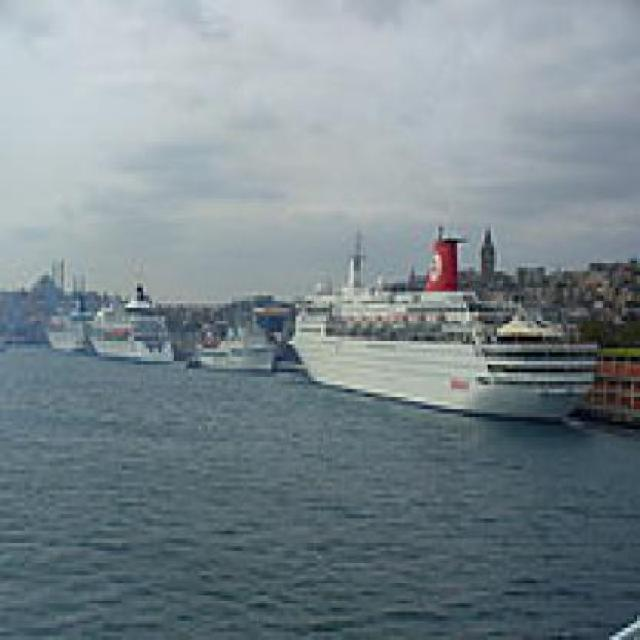cruise: (287, 220, 604, 434), (80, 277, 180, 370)
